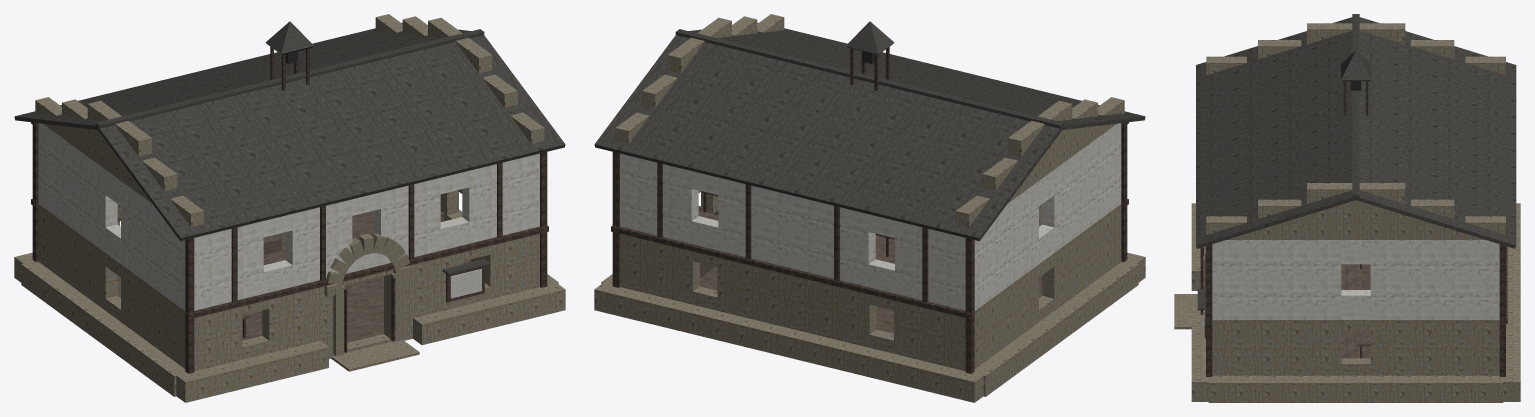
The model's file is prop_hk_auction.glb.
3 views of the same model, side by side, from view 1: azimuth 30°, elevation 25°; view 2: azimuth 150°, elevation 25°; view 3: azimuth 270°, elevation 25° (orthographic). The views are drawn at different scales.
Visible parts, largest first — view 1: building_hk_auction; view 2: building_hk_auction; view 3: building_hk_auction.
Boxes of the visible parts, x1=… form: building_hk_auction: x1=14, y1=14, x2=565, y2=402; building_hk_auction: x1=594, y1=14, x2=1145, y2=402; building_hk_auction: x1=1174, y1=14, x2=1520, y2=402.
Size of the model in its own units: 17.4 by 11.8 by 14.1.
6 materials, 6 textured.
